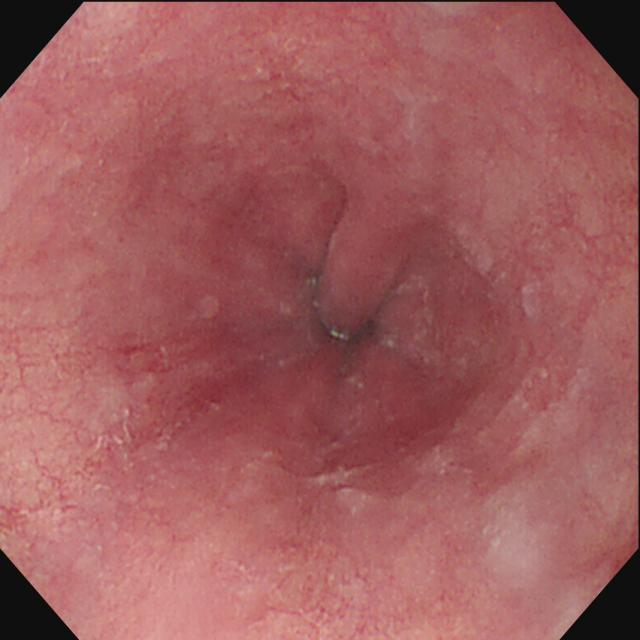I: (177, 104, 515, 477)
J: (383, 277, 468, 375), (452, 223, 509, 286), (311, 459, 375, 506), (99, 407, 137, 448), (521, 277, 546, 324)
